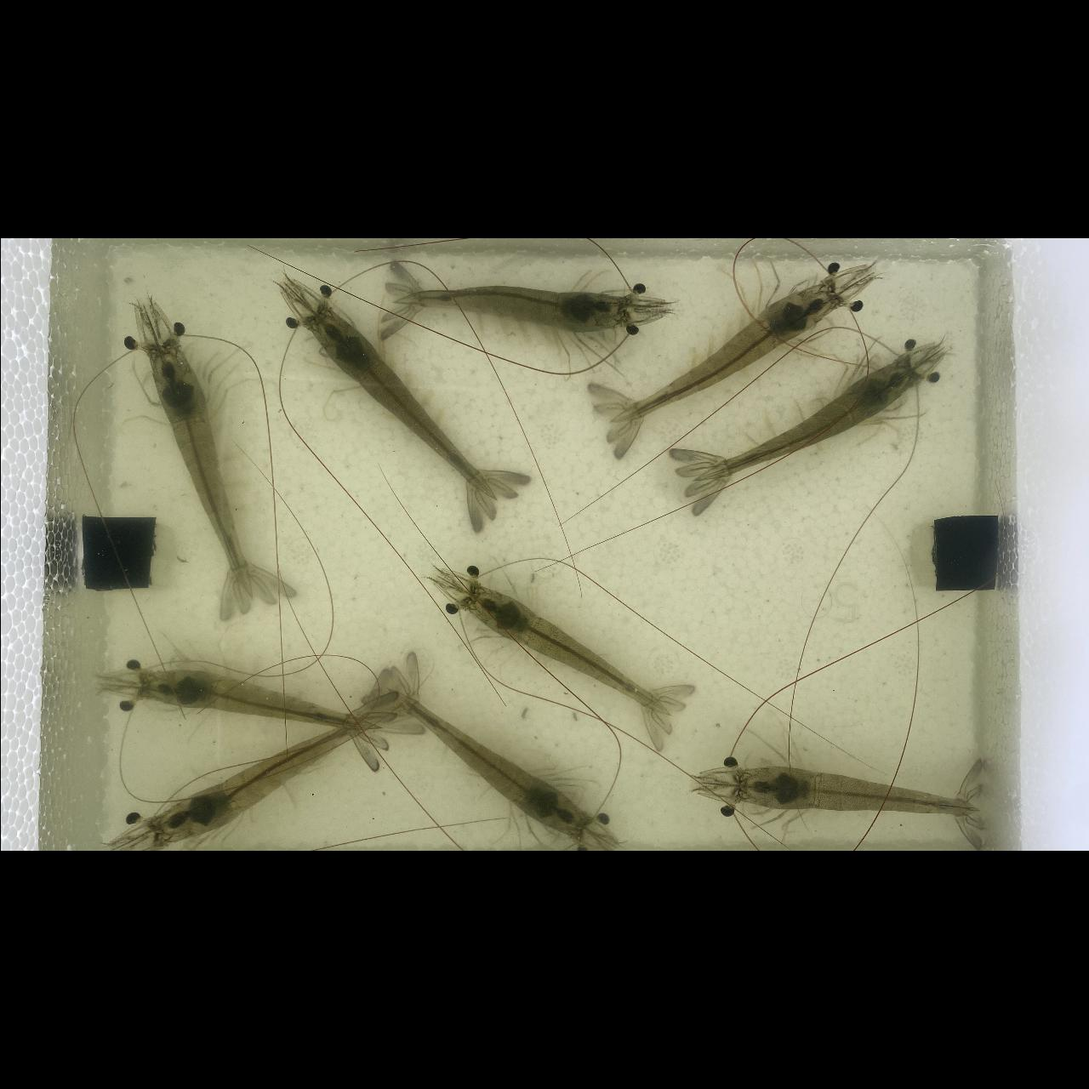box: (80, 516, 154, 590), (931, 516, 998, 591), (974, 559, 980, 562)
top_shrimp: (310, 310, 495, 499), (611, 287, 832, 423), (386, 688, 582, 838), (152, 714, 374, 843), (466, 585, 670, 717), (150, 345, 250, 597), (695, 364, 911, 478), (139, 669, 382, 729), (737, 766, 978, 816), (394, 285, 622, 332)
